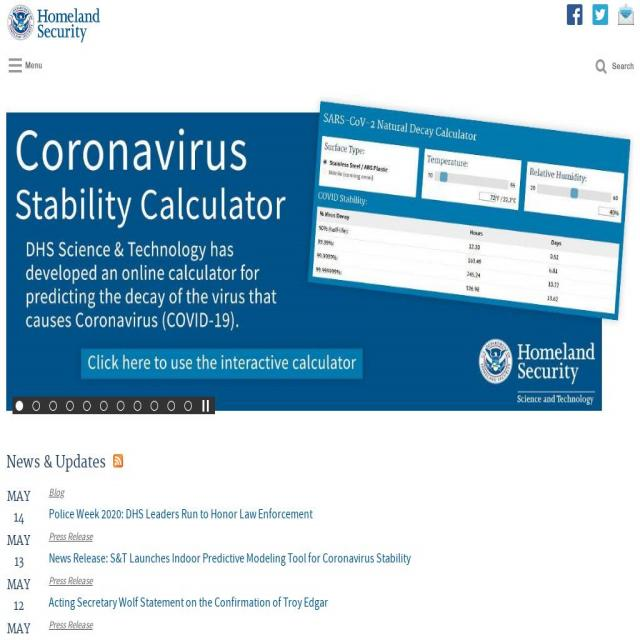follow-options: (560, 0, 636, 35)
list: (14, 473, 474, 630)
navigation-links: (2, 463, 448, 640)
options: (4, 52, 48, 78)
search: (587, 53, 636, 82)
